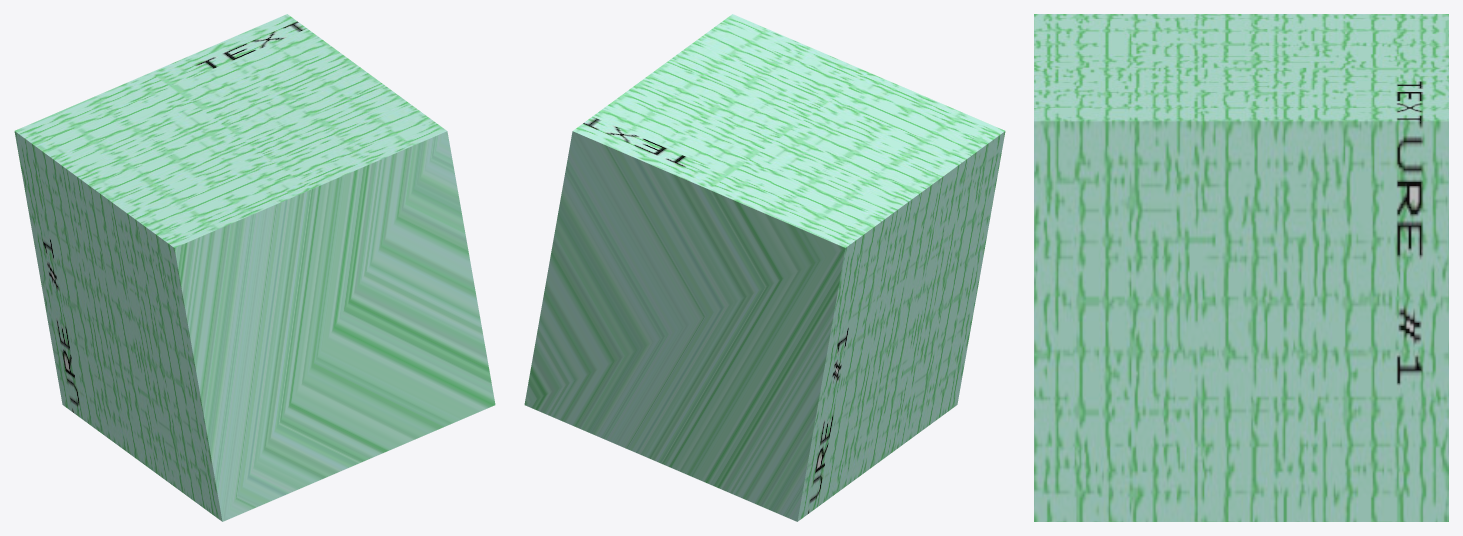
File: simple_005_Bake_Procedural_Texcoords_00.dae
The picture shows the model from 3 angles, left to right: view 1: azimuth 30°, elevation 25°; view 2: azimuth 150°, elevation 25°; view 3: azimuth 270°, elevation 25°; orthographic projection. The views are drawn at different scales.
Visible parts, largest first — view 1: pCube1; view 2: pCube1; view 3: pCube1.
Part boxes in pixels (x1,y1,x2,y2): pCube1: (14,14,495,521); pCube1: (524,14,1005,521); pCube1: (1034,14,1448,521).
Bounding box in the file's own units: 3.47 × 3 × 3.47.
